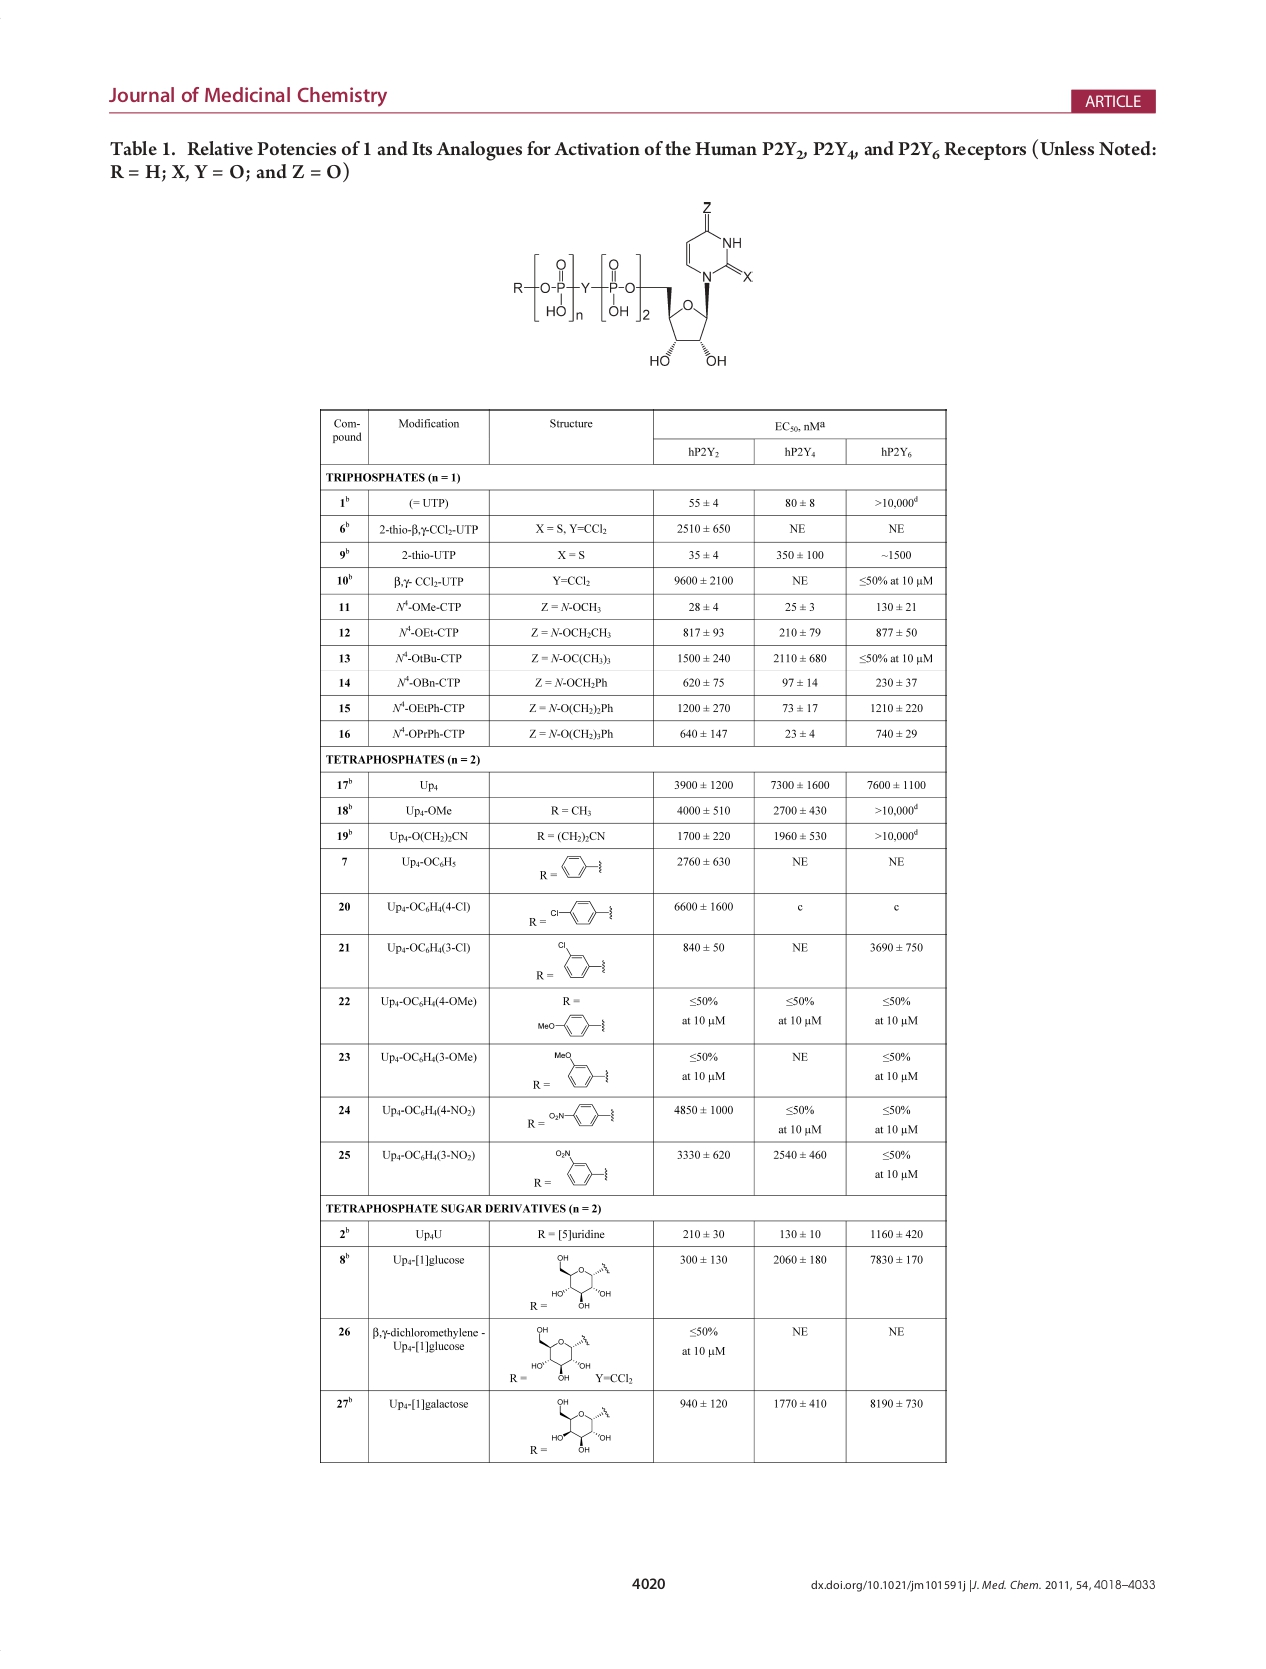exist_molecular: (511, 198, 754, 370), (527, 1325, 594, 1383), (547, 1395, 614, 1454), (549, 1251, 612, 1309), (551, 1047, 612, 1091), (552, 1146, 610, 1189), (555, 938, 609, 981), (547, 1100, 617, 1129), (535, 1011, 606, 1039), (549, 896, 614, 927), (559, 852, 606, 880)
